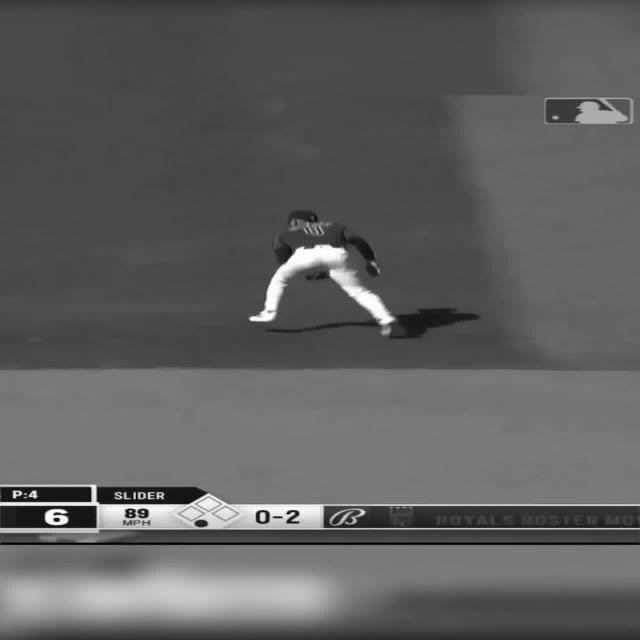baseball_glove: (304, 270, 330, 280), (364, 260, 380, 276)
shoe: (379, 318, 402, 337), (248, 310, 277, 322)
